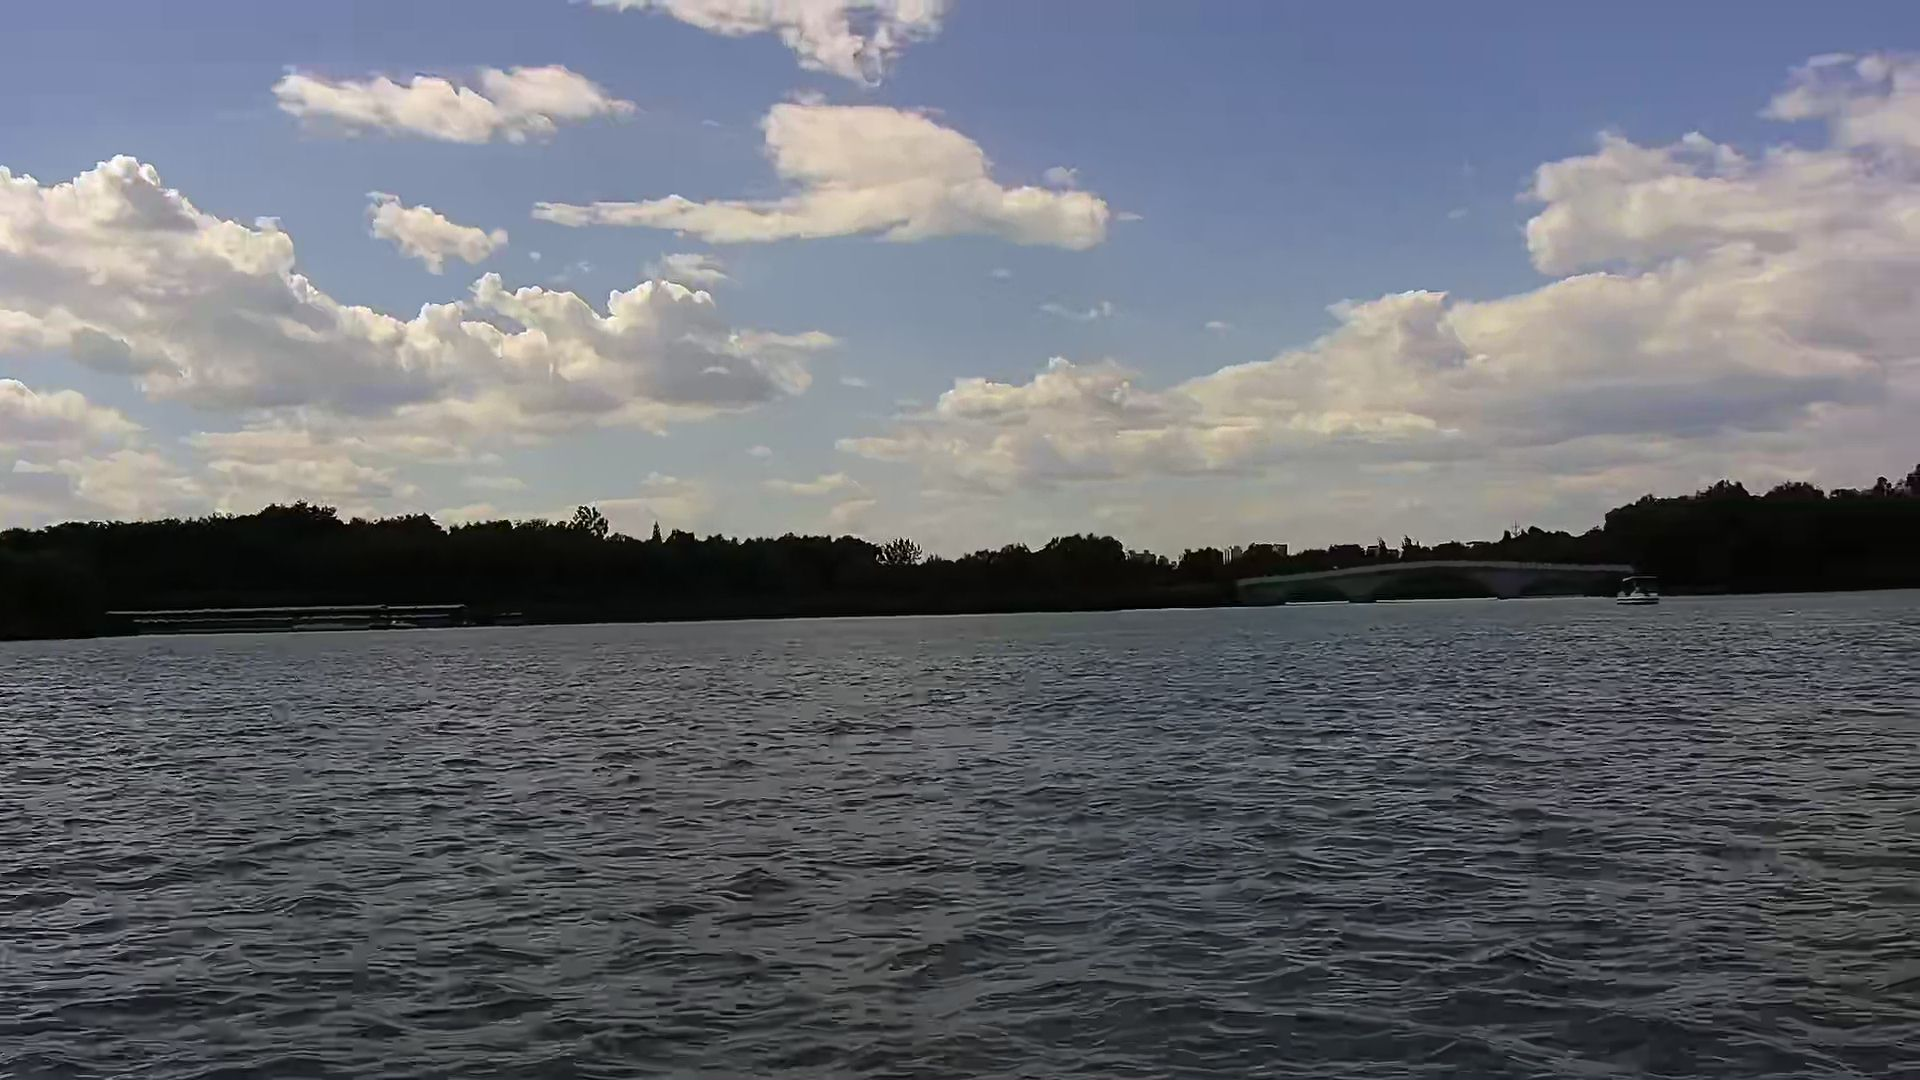boat: (1618, 578, 1662, 603)
bridge: (1240, 560, 1630, 603), (111, 607, 465, 636)
